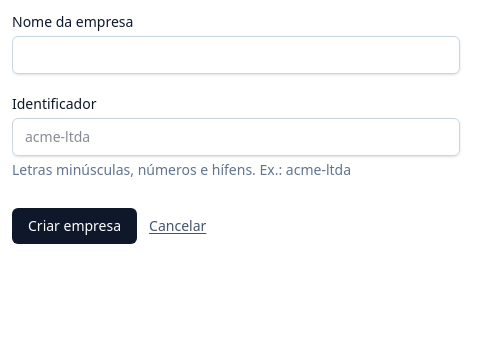
Test: EmpresaForm — o despacho › mostra o erro de formulário que a Action devolveu
The width and height of the screenshot is (477, 347).
Type "ACME" into the field labelled "Nome da empresa" at (236, 55), box [12,36,460,74]
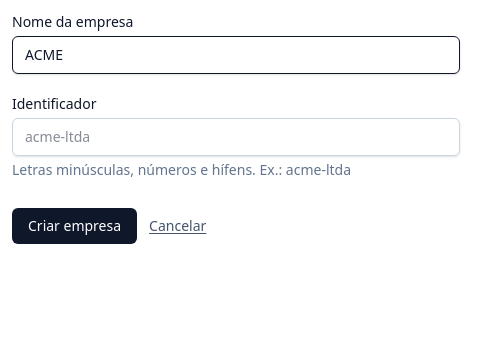
Type "acme" into the field labelled "Identificador" at (236, 137), box [12,118,460,156]
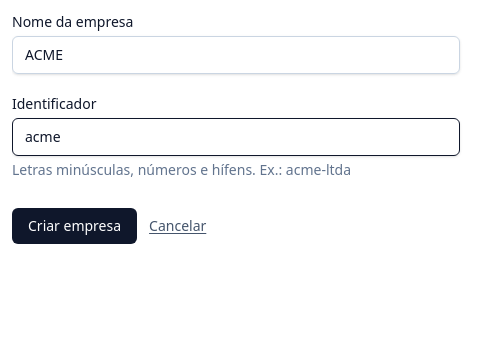
Click the button "Criar empresa" at (75, 226), box [12,208,137,244]
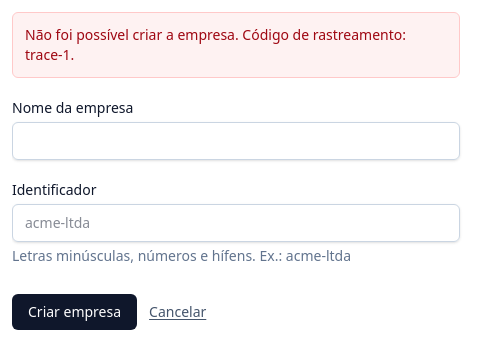
Check: the text "Não foi possível criar a empresa. Código de rastreamento: trace-1." is shown, box [12,12,460,78]
